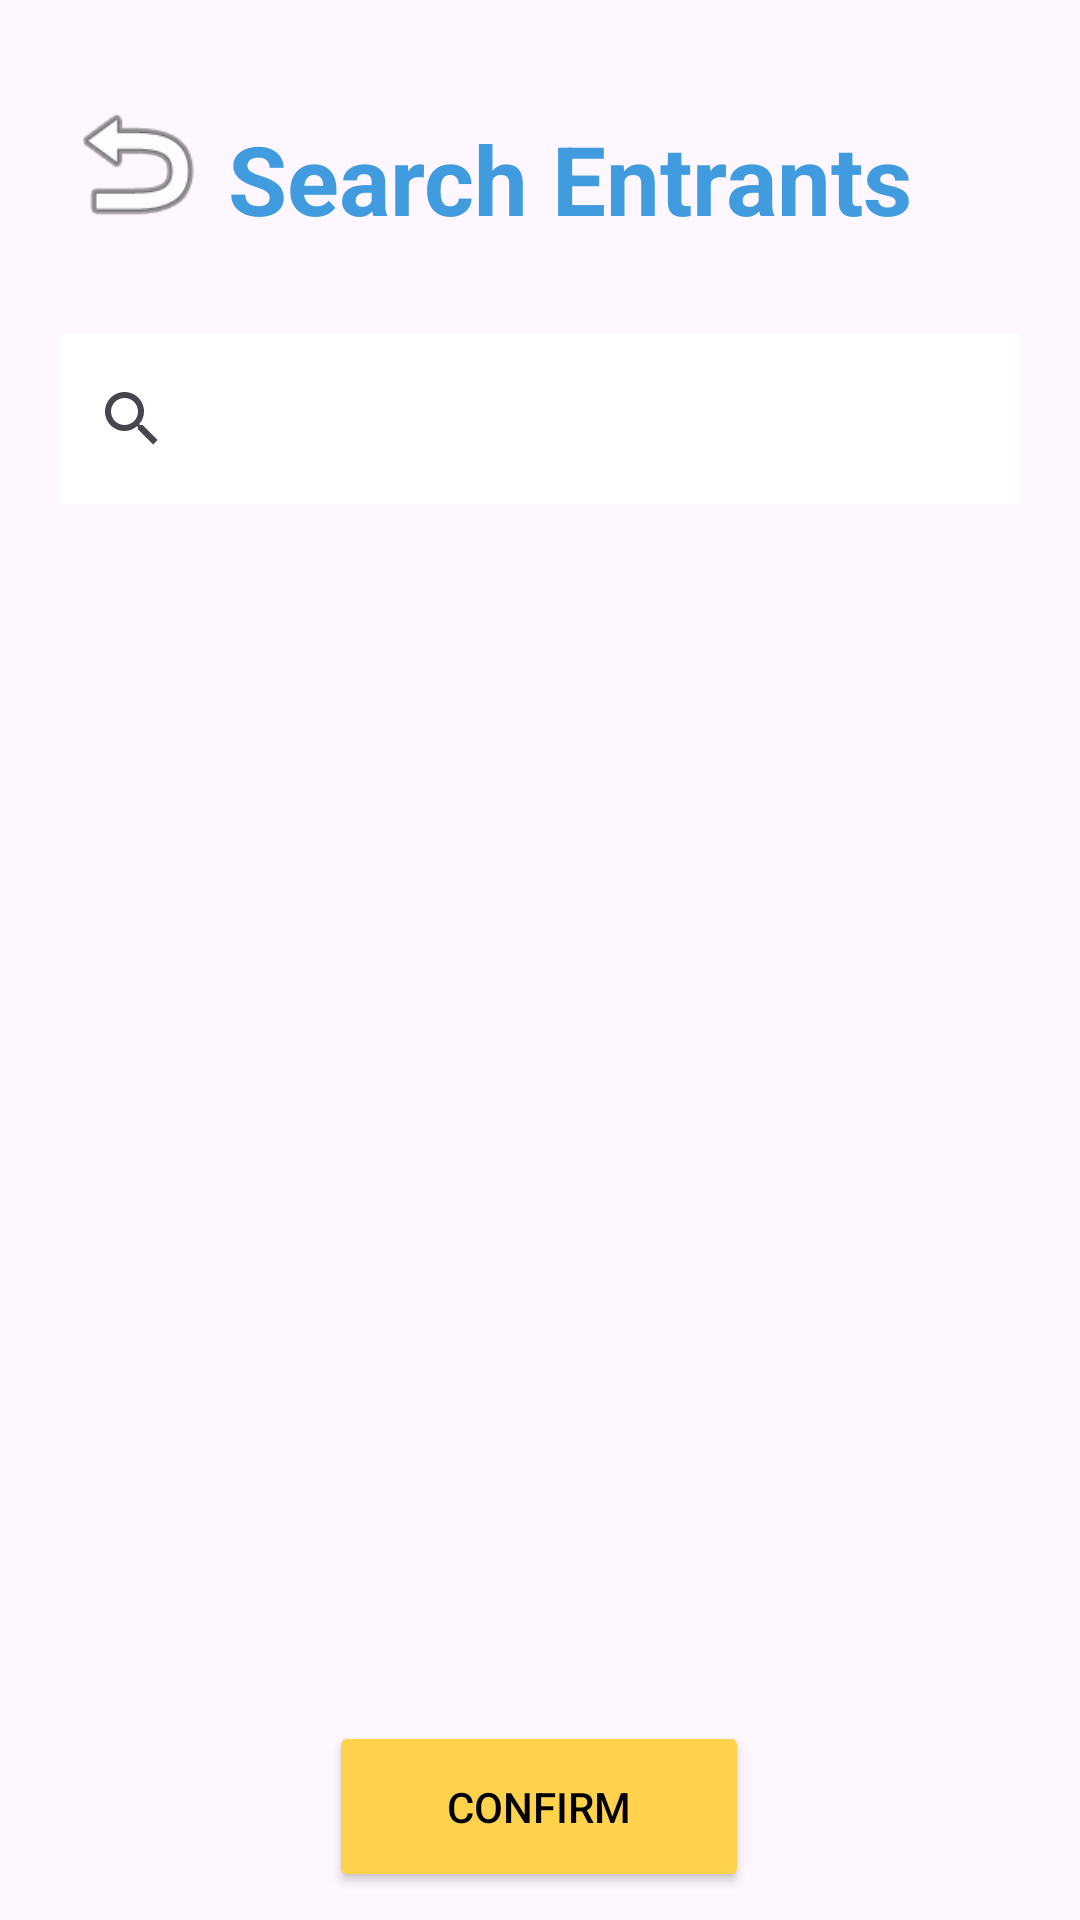

Icon click points for this 1080 × 1920 phone screenshot, format [x,y]:
revert: [138,164]
